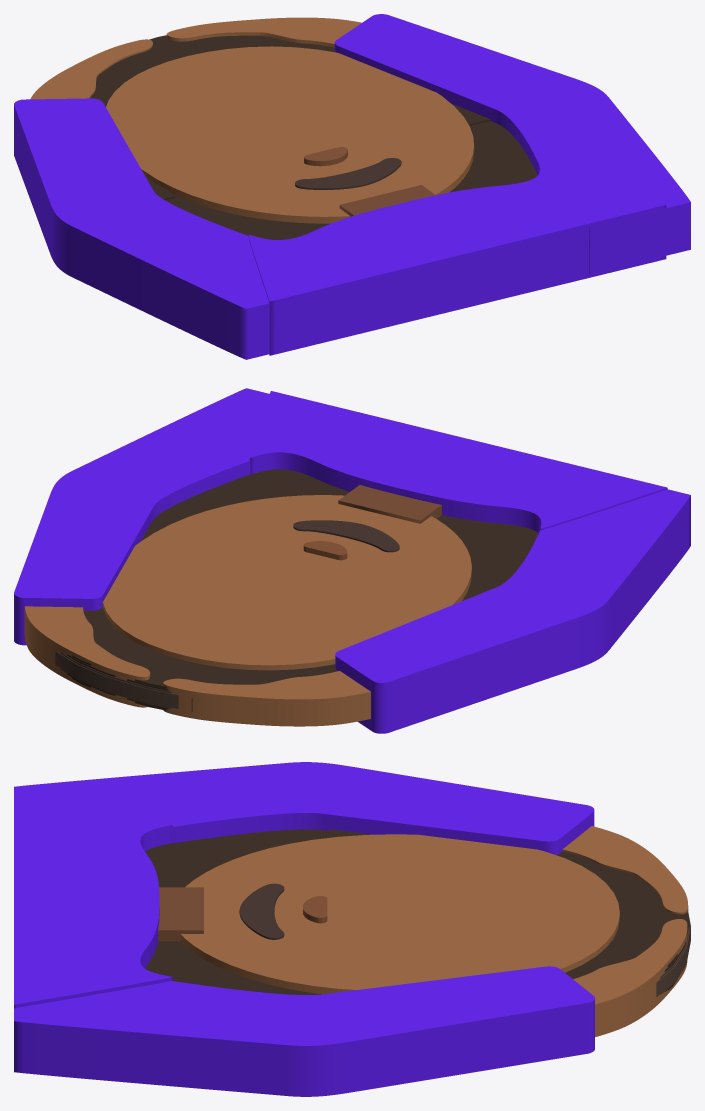
File: emoji_u1f646_1f3fe_200d_2640.glb
3 renders of one model, top to bottom at view 1: azimuth 30°, elevation 25°; view 2: azimuth 150°, elevation 25°; view 3: azimuth 270°, elevation 25°, orthographic. The views are drawn at different scales.
Parts seen in each view (by area): view 1: emoji_u1f646_1f3fe_200d_2640; view 2: emoji_u1f646_1f3fe_200d_2640; view 3: emoji_u1f646_1f3fe_200d_2640.
Part boxes in pixels (x1,y1,x2,y2): emoji_u1f646_1f3fe_200d_2640: [14, 14, 690, 359]; emoji_u1f646_1f3fe_200d_2640: [14, 388, 690, 733]; emoji_u1f646_1f3fe_200d_2640: [14, 762, 690, 1096].
Bounding box in the file's own units: 0.0333 × 0.0032 × 0.0337.
